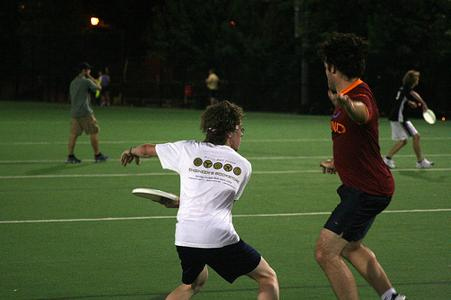person: (119, 101, 282, 300)
